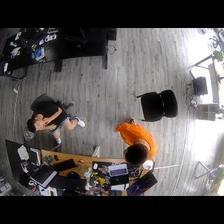normal: (25, 98, 87, 146), (114, 115, 159, 165)
